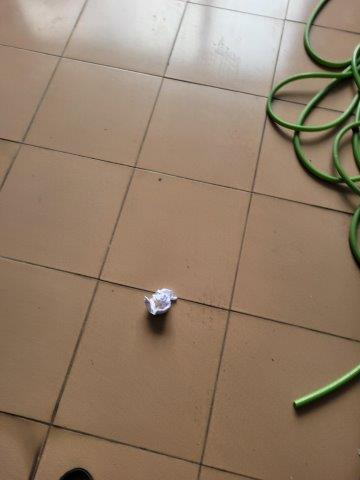kertas: (140, 289, 181, 319)
